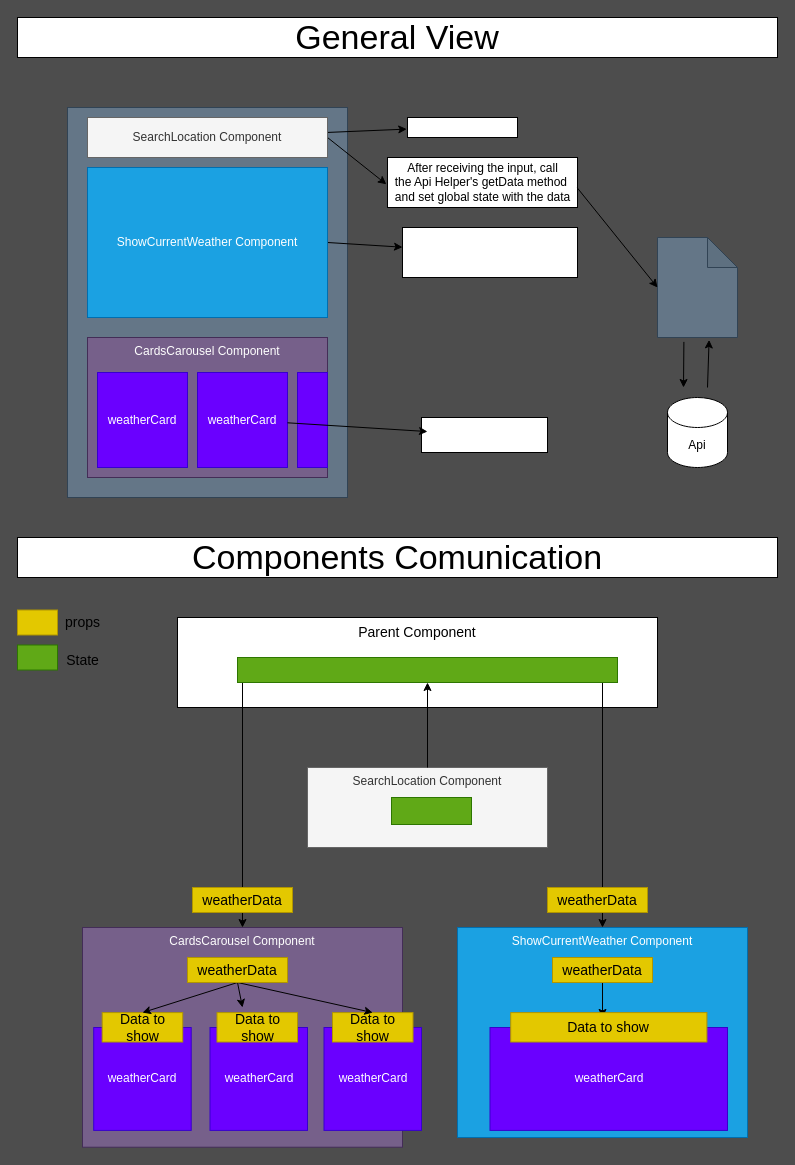
The diagram is 795 pixels wide and 1165 high, and some of its shapes have lost their labels. Here are the shapes that lost their labels. From the top down, the box of each, then its label:
(406, 116, 518, 138): Receives an input
(402, 226, 578, 278): Show current weather in a selected location. Receives data from global state
(656, 236, 738, 338): Api Helper
(420, 416, 548, 452): Show weather for the next days
(236, 656, 618, 682): Weather Data
(390, 796, 472, 824): inputValue
